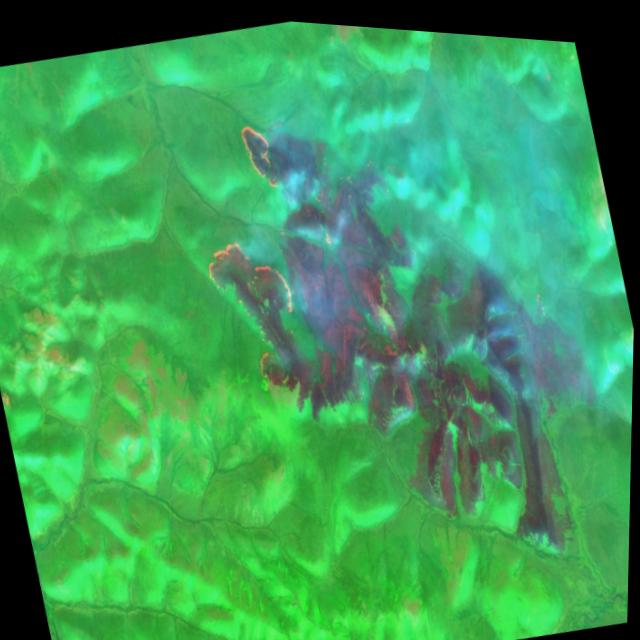fire: (188, 216, 328, 407), (204, 95, 313, 207)
